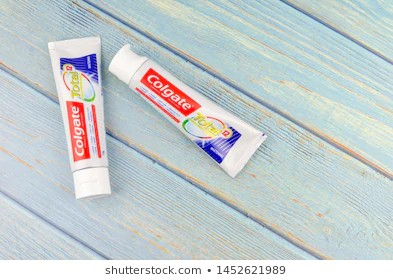colgate-total-150gm: (110, 35, 272, 180), (49, 35, 111, 195)
